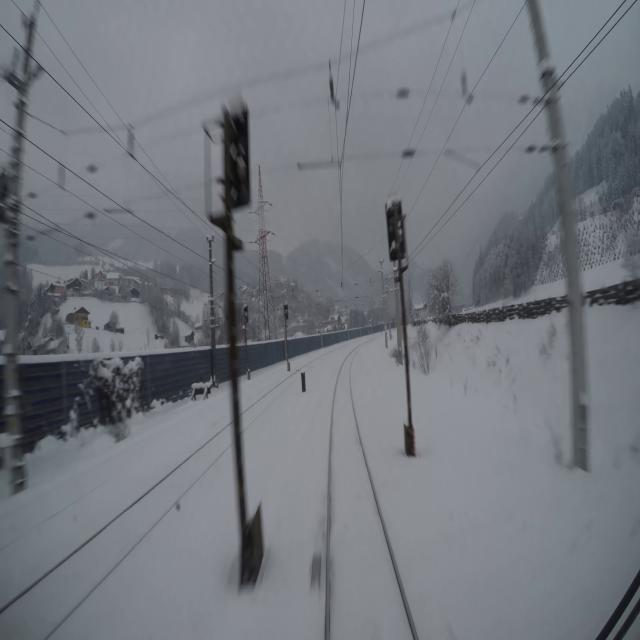rail-track: (0, 425, 234, 639), (331, 356, 413, 639), (239, 377, 294, 430)
